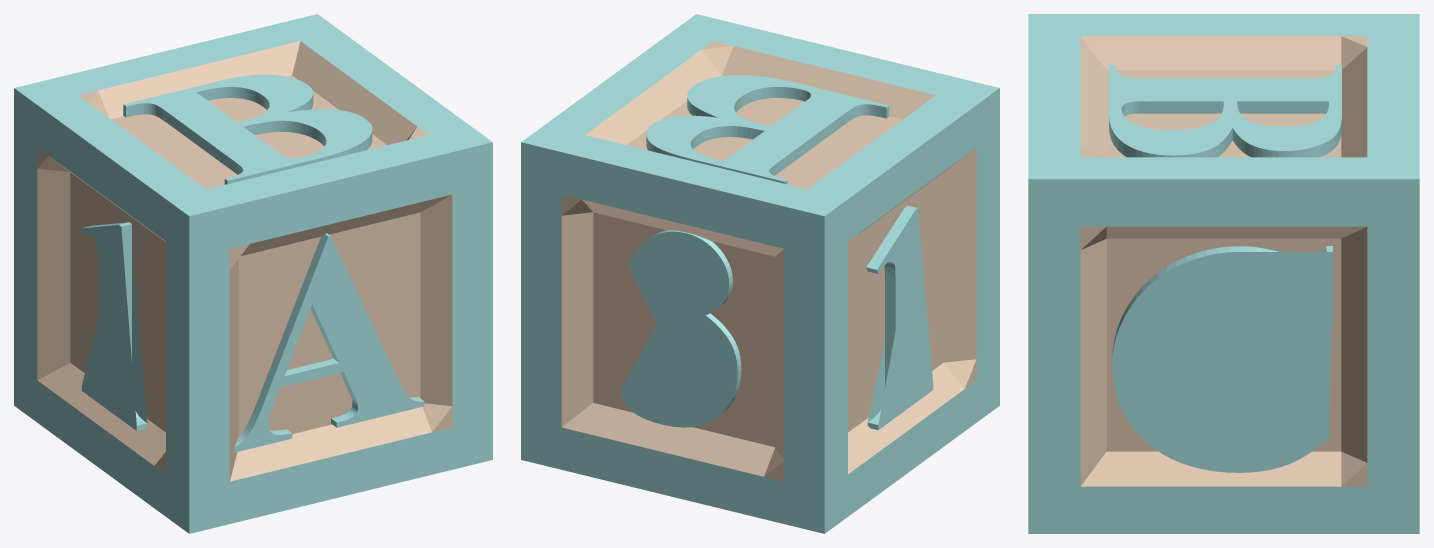
File: letter cube.fbx
3 renders of one model, left to right at view 1: azimuth 30°, elevation 25°; view 2: azimuth 150°, elevation 25°; view 3: azimuth 270°, elevation 25°, orthographic. The views are drawn at different scales.
Parts seen in each view (by area): view 1: Number_Block; view 2: Number_Block; view 3: Number_Block.
Part boxes in pixels (x1,y1,x2,y2): Number_Block: [14, 14, 492, 533]; Number_Block: [521, 14, 999, 533]; Number_Block: [1028, 14, 1419, 533].
Size of the model in its own units: 100 by 100 by 100.
